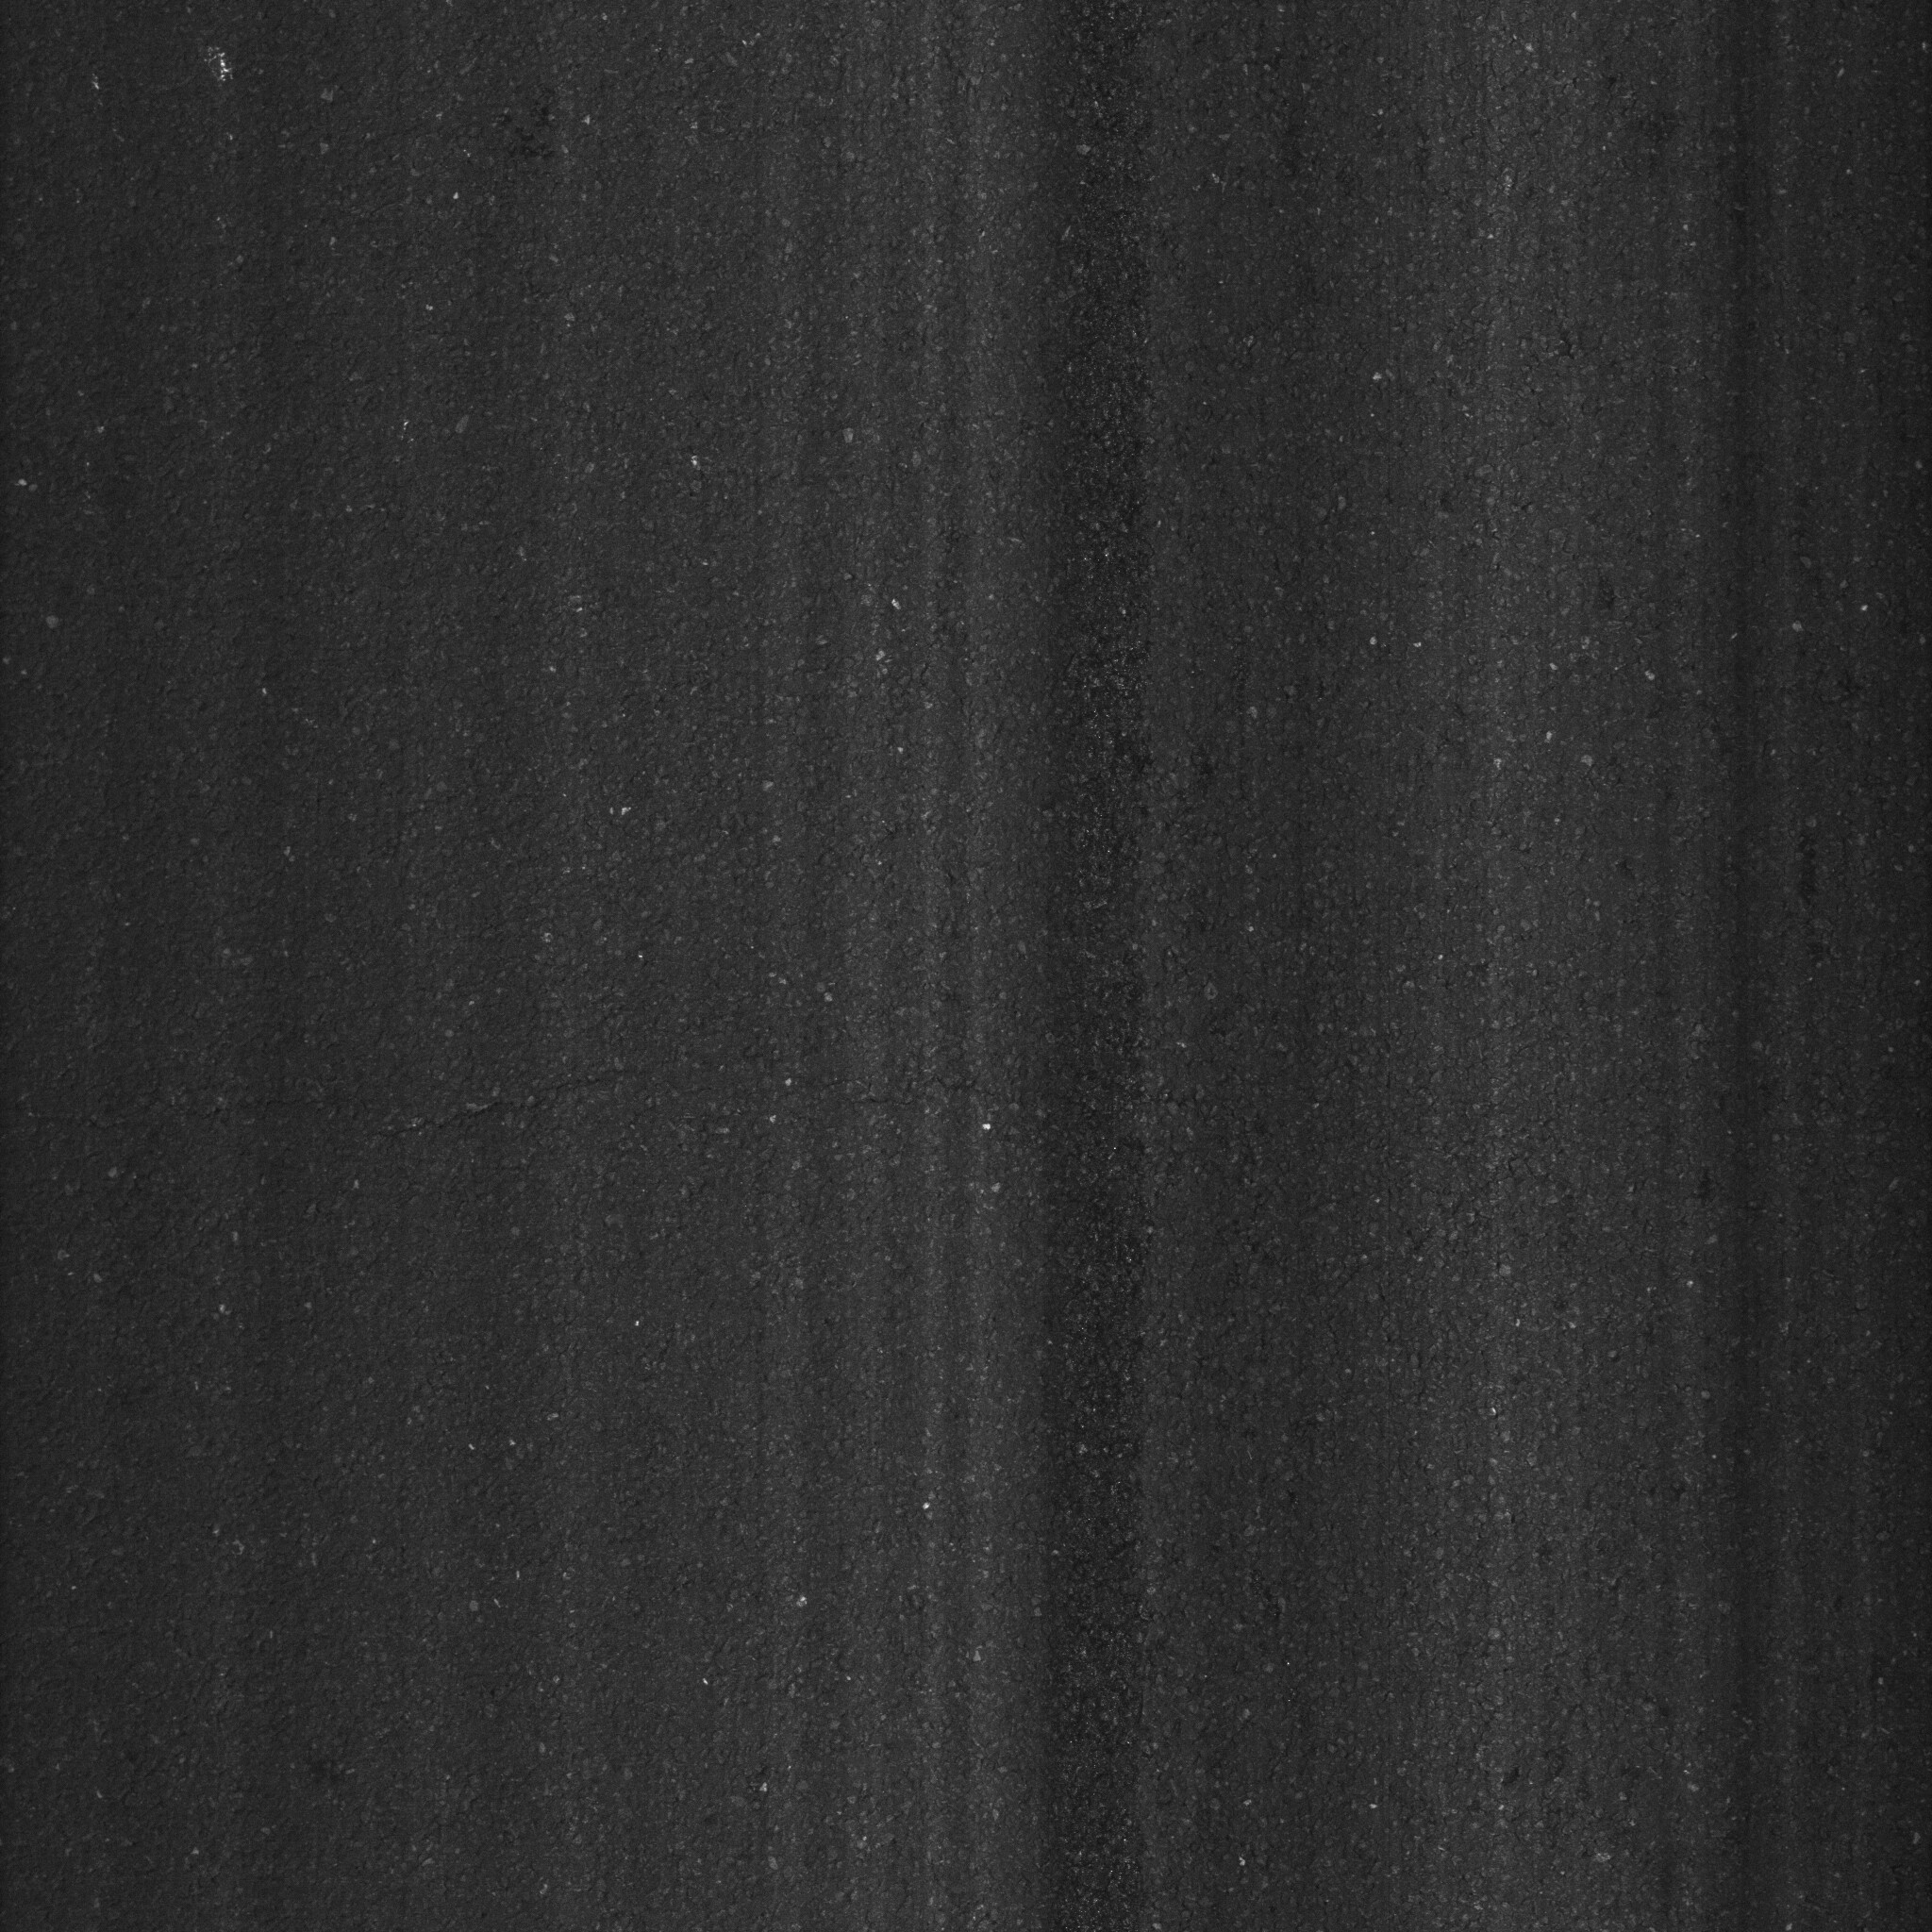transeverse: (18, 1053, 911, 1177)
